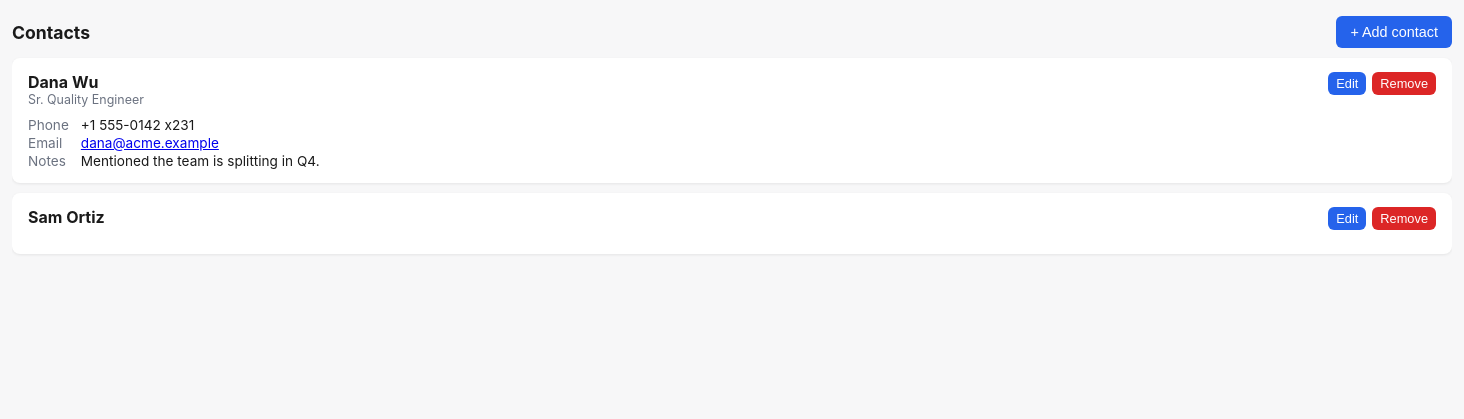
ContactsEditor › editing › discards the edit on cancel
Click the button "Edit" in the row of "Sr. Quality Engineer" at (1347, 84), box [1328,72,1366,95]
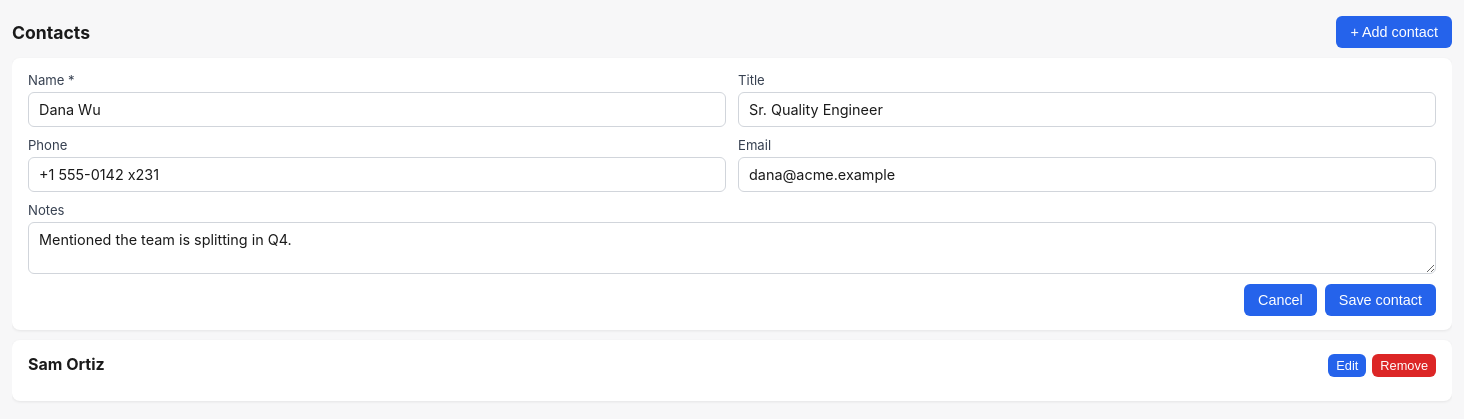
Clear the field labelled "Title" at (1087, 110), box [738,92,1436,127]
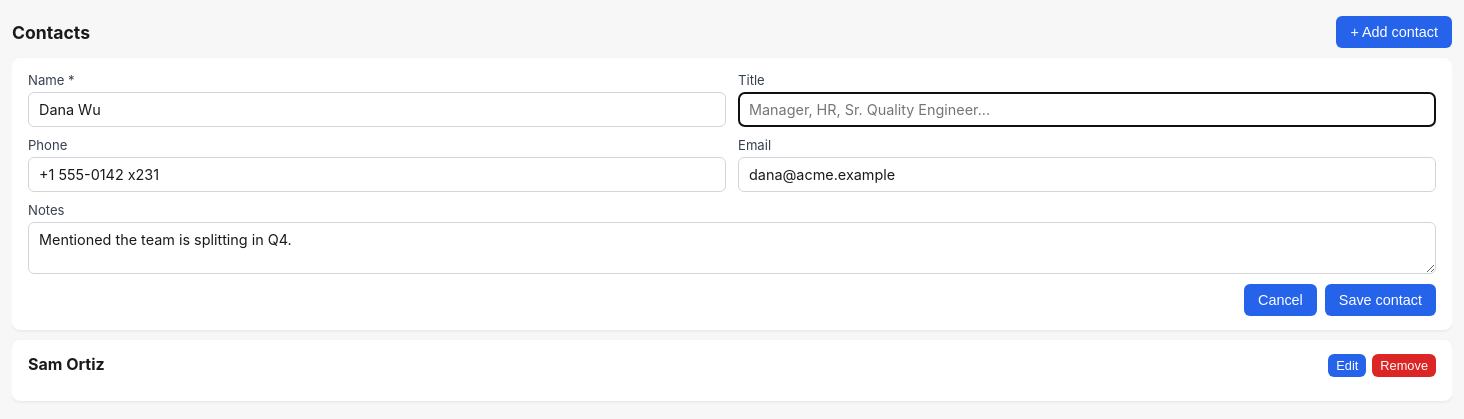
Click the button "Cancel" at (1280, 300), box [1244,284,1317,316]
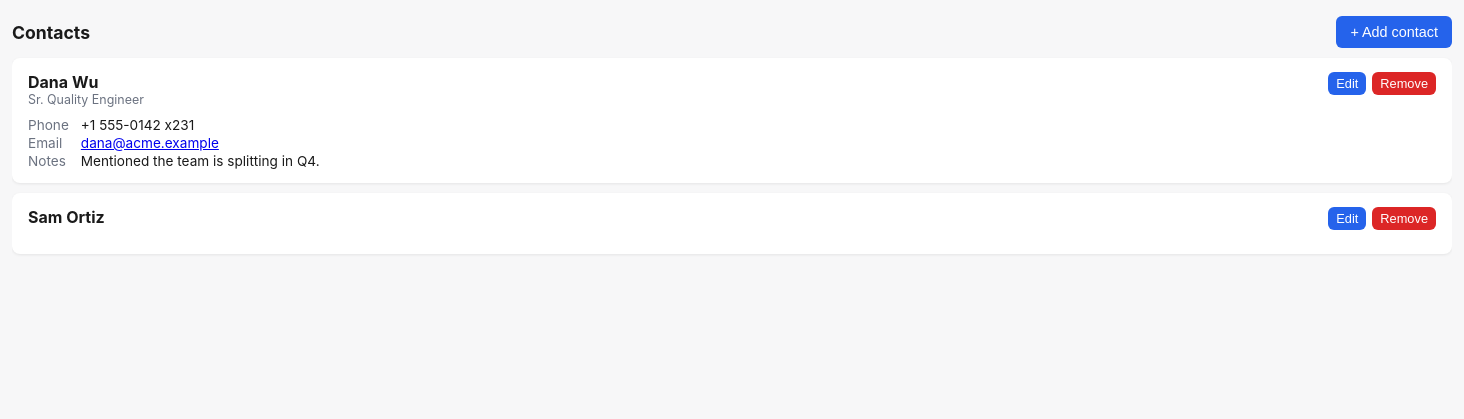
Check: the text "Sr. Quality Engineer" is shown, box [28,92,144,107]
